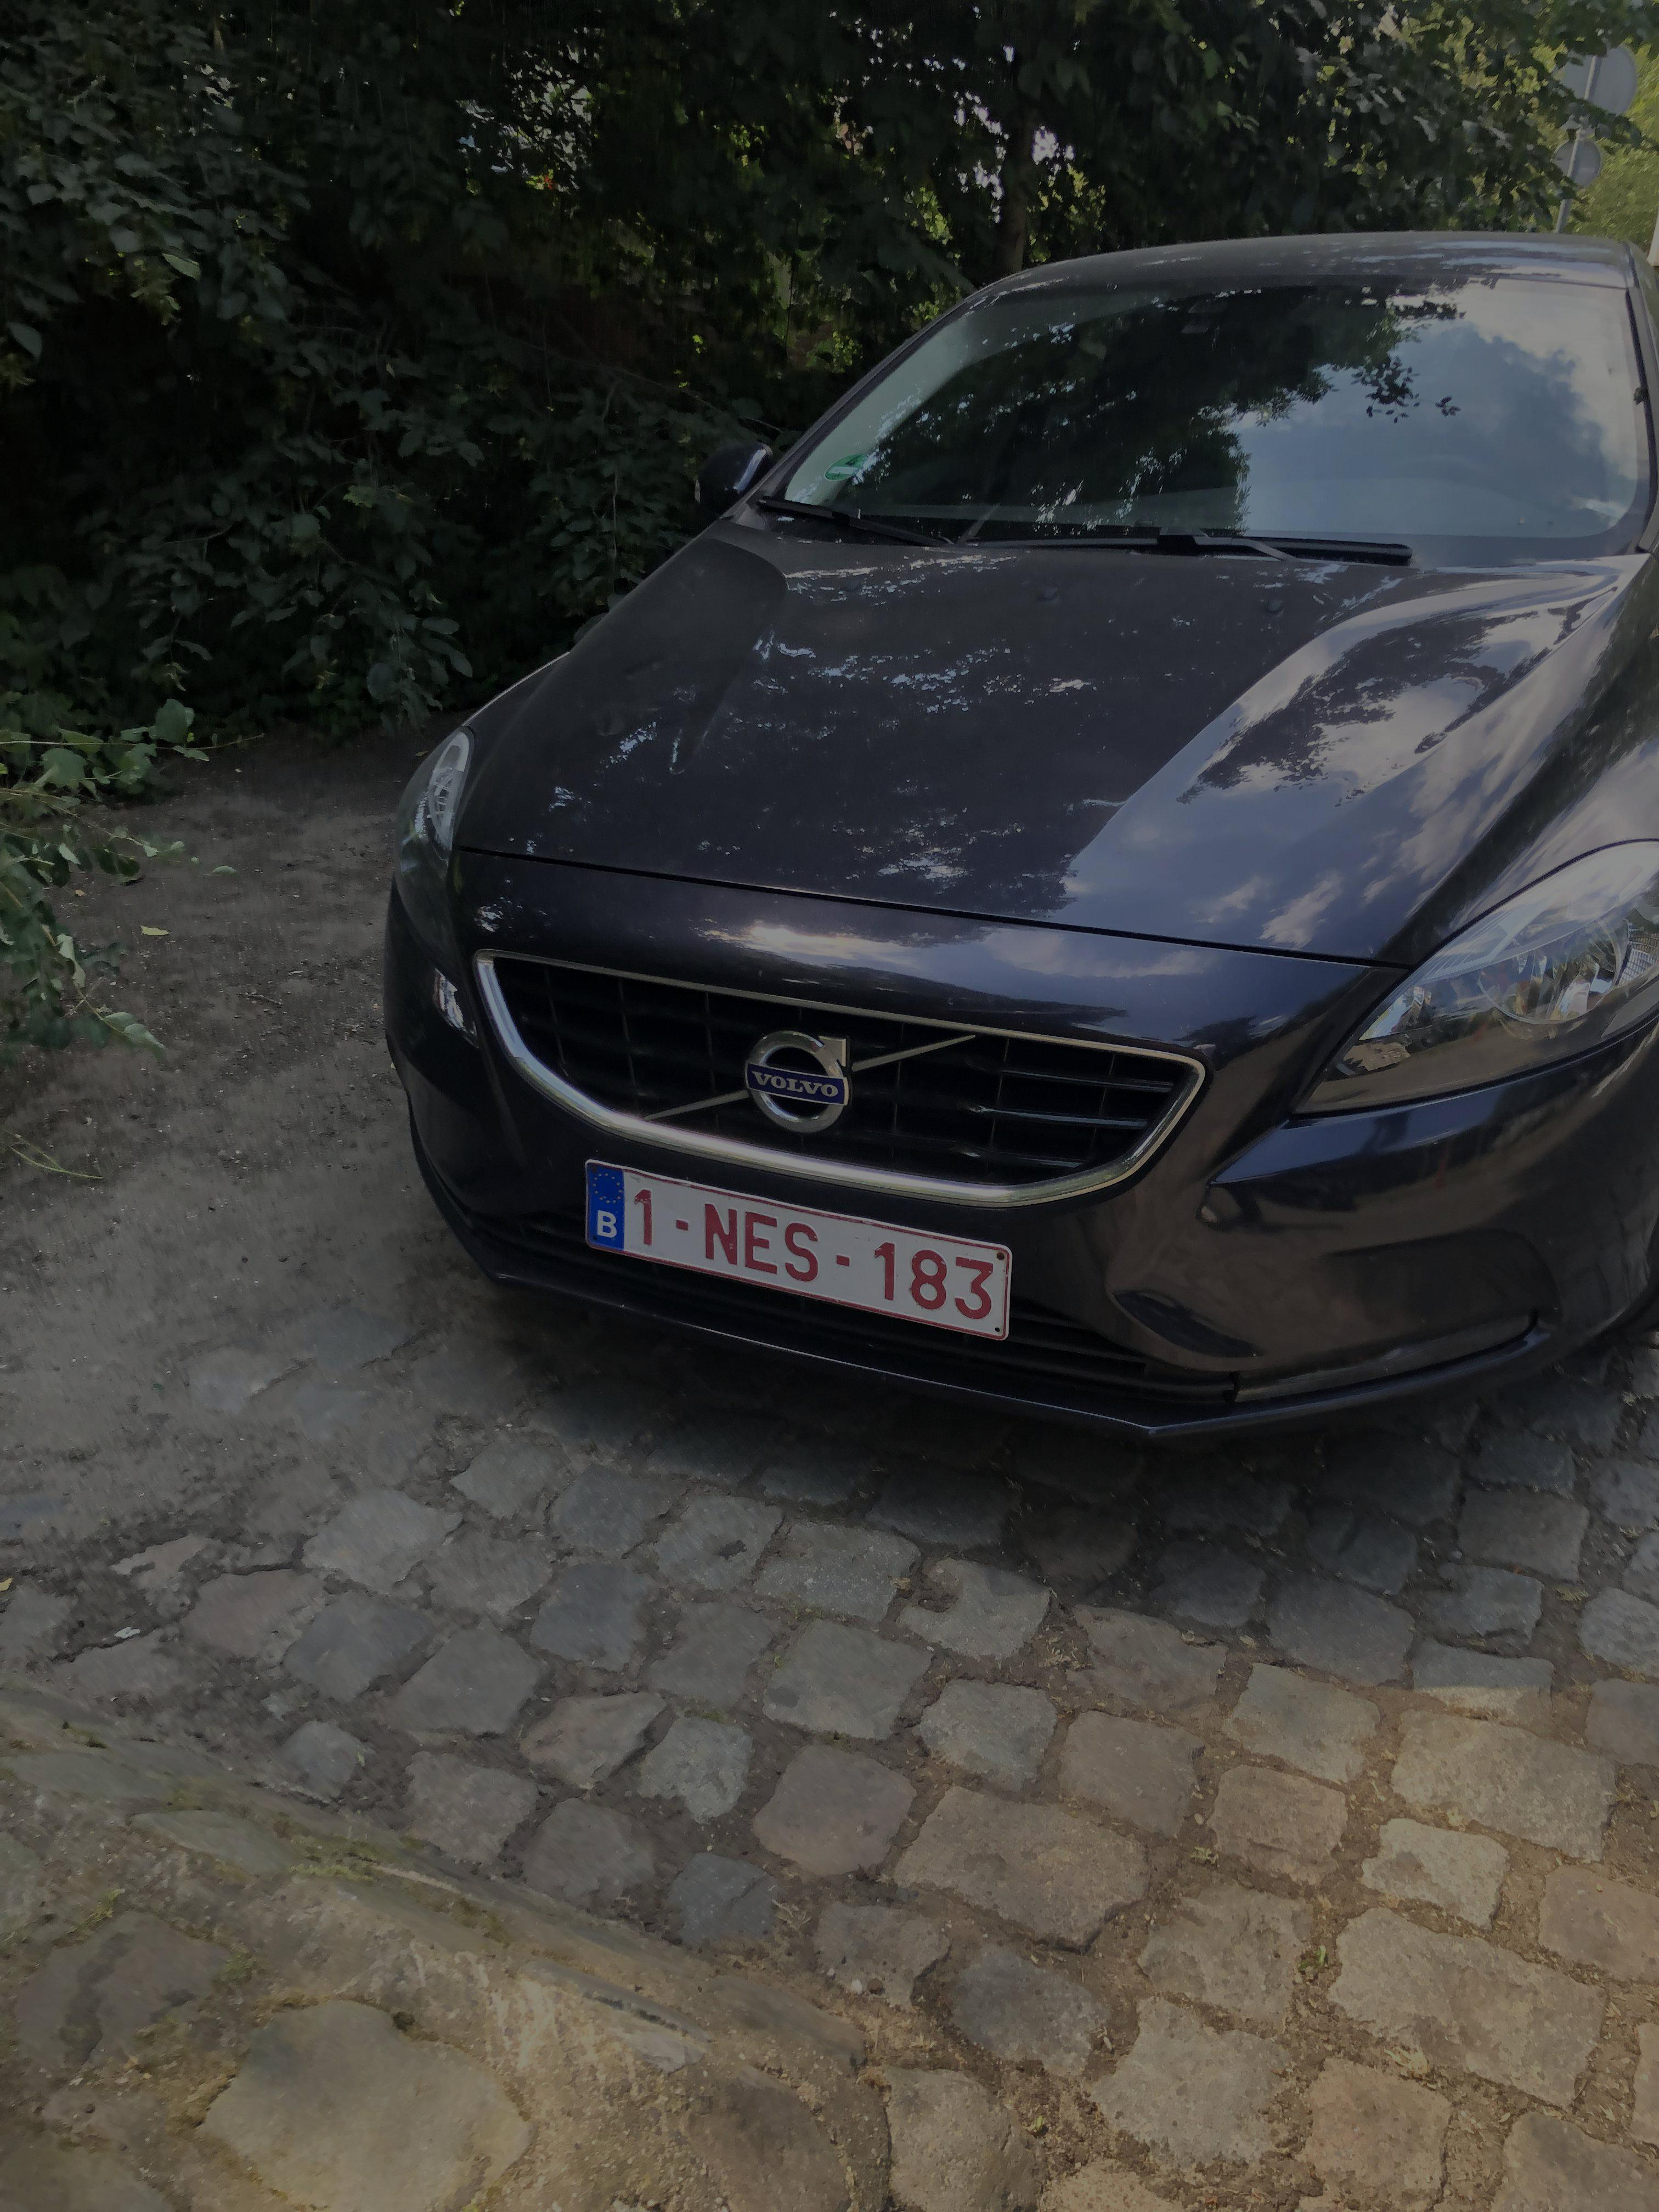plate: (558, 1127, 1036, 1361)
